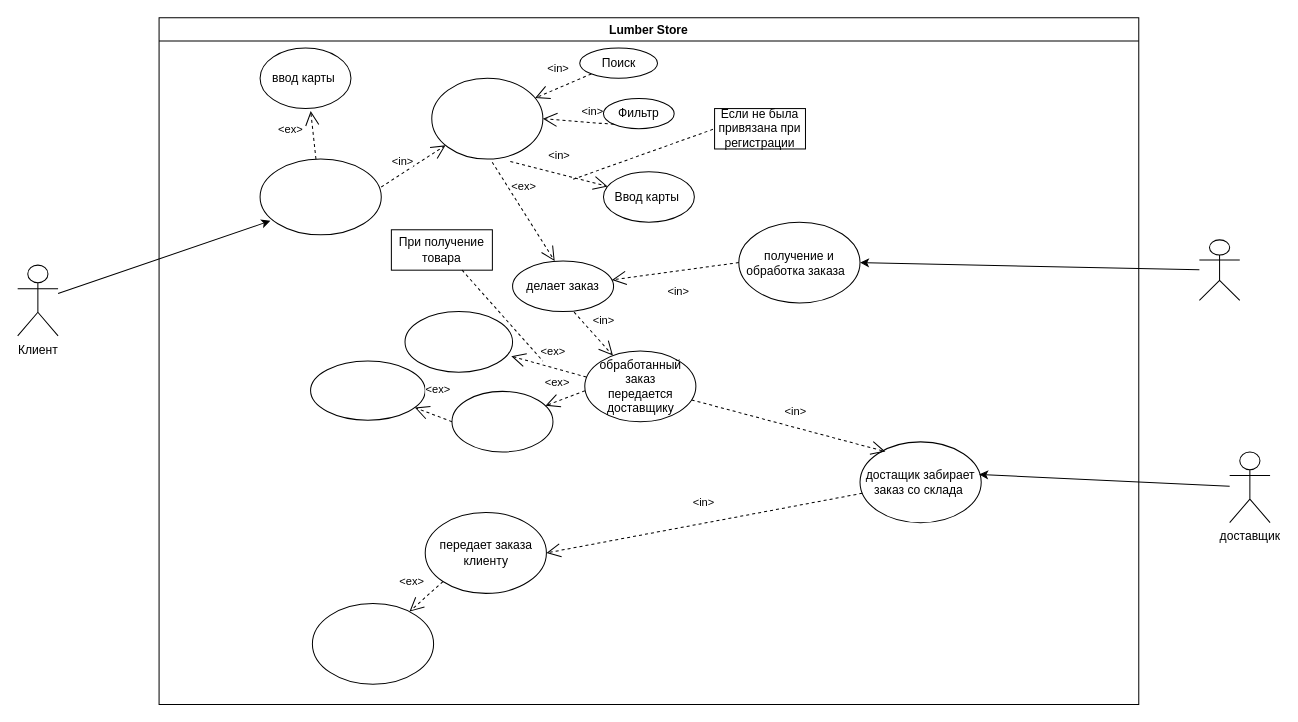
Image size: 1298x722. Some labels were removed from this diagram. Here are the shapes that lost their labels. From the top down, the box of each, then its label:
(431, 77, 543, 159): Просмотр определенных пиломатериалов
(259, 158, 381, 235): Регистрация , указ Фио , лич счета, указание пароля
(1198, 239, 1240, 300): Менеджер
(404, 311, 513, 372): предложение оплата наличным расчетом ,
(310, 360, 425, 420): предоставление квитанции об оплате
(451, 390, 553, 452): произвести оплату на сайте
(311, 602, 434, 684): предложение оставить отзыв о доставке
